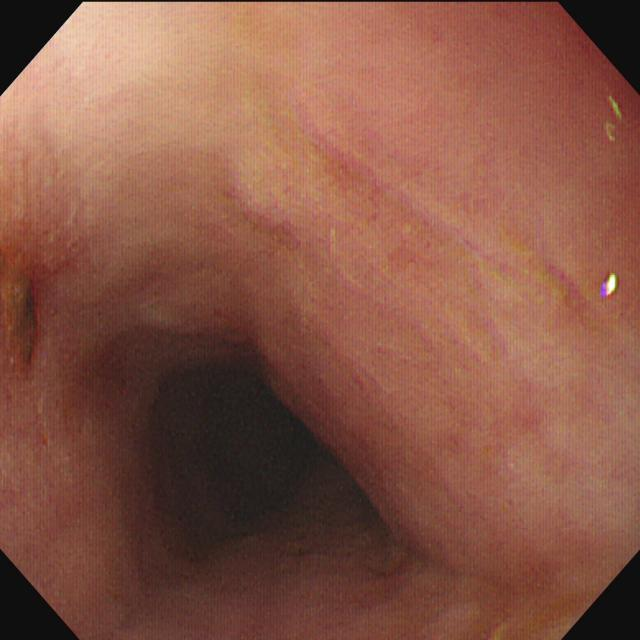E: (117, 317, 396, 590)
J: (2, 269, 43, 382)
U: (601, 273, 622, 301)
